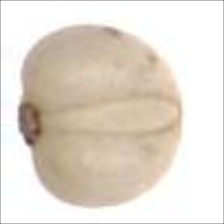L5: (37, 91, 182, 141), (15, 98, 48, 150), (166, 92, 188, 146)
L6: (14, 22, 186, 209)
